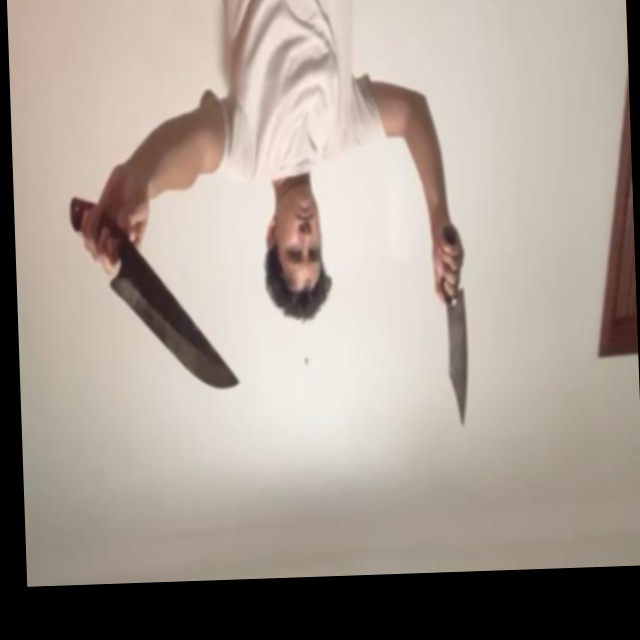Sharp-Object: (109, 265, 241, 395), (444, 293, 469, 428)
